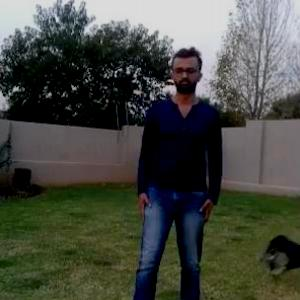follow: (134, 46, 224, 299)
